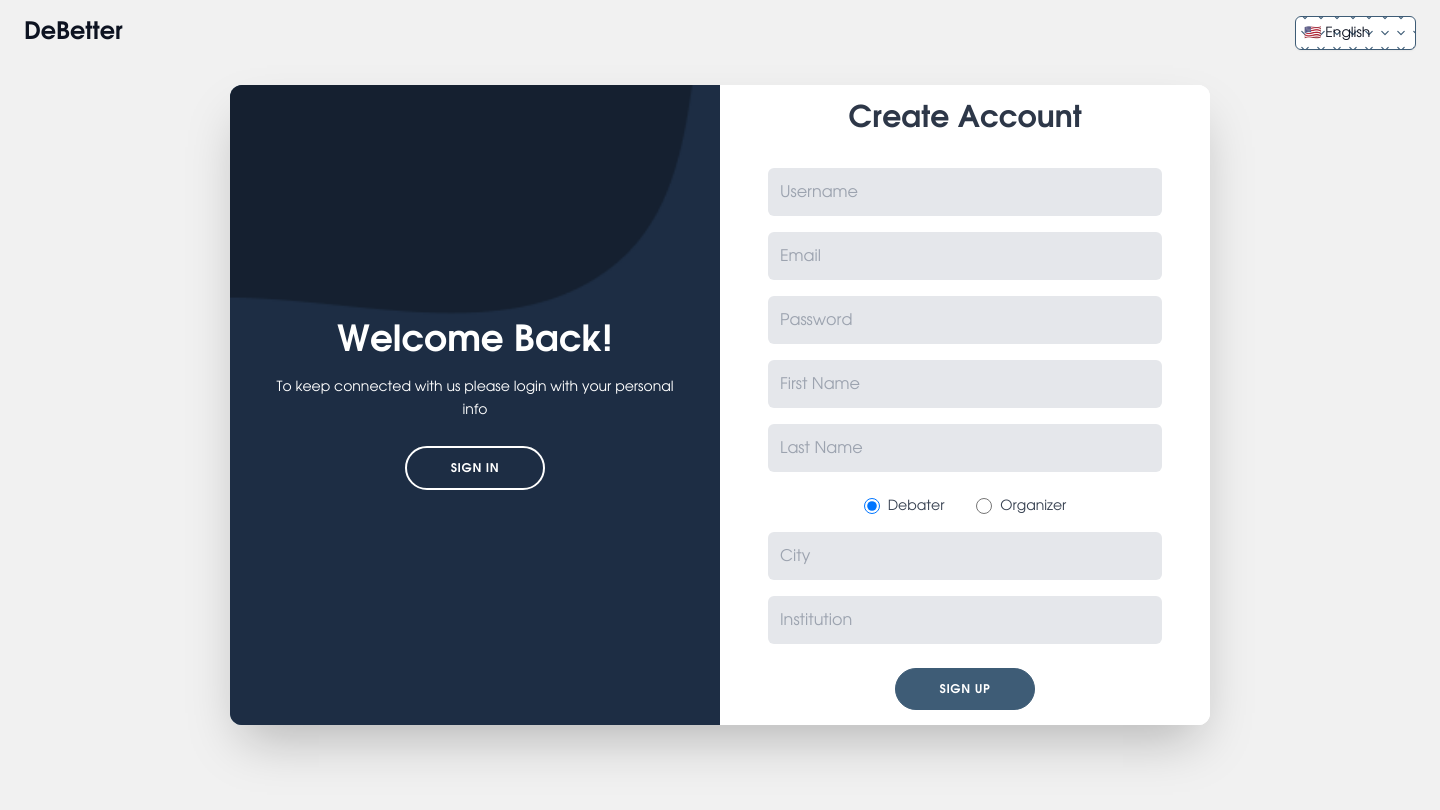
Test: AuthPage sign-up › uses the registration fallback when the error body is not JSON
The width and height of the screenshot is (1440, 810).
Type "nurassyl" into the field with id "auth-signup-name" at (965, 192), box [768,168,1162,216]
Type "nurassyl@example.com" into the field with placeholder "Email" at (965, 256), box [768,232,1162,280]
Type "Test12345!" into the password field with placeholder "Password" at (965, 320), box [768,296,1162,344]
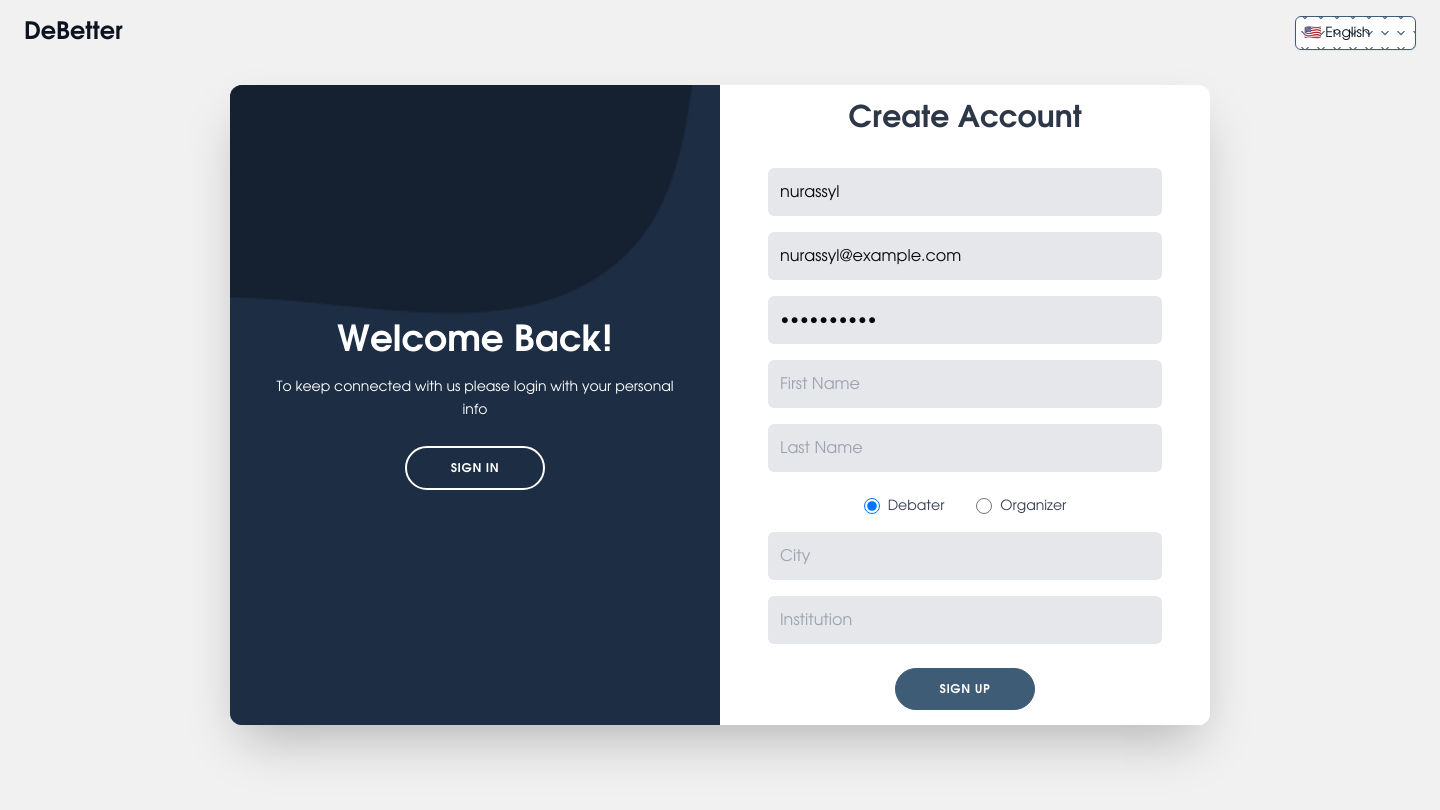
Type "Nurassyl" into the field with placeholder "First Name" at (965, 384), box [768,360,1162,408]
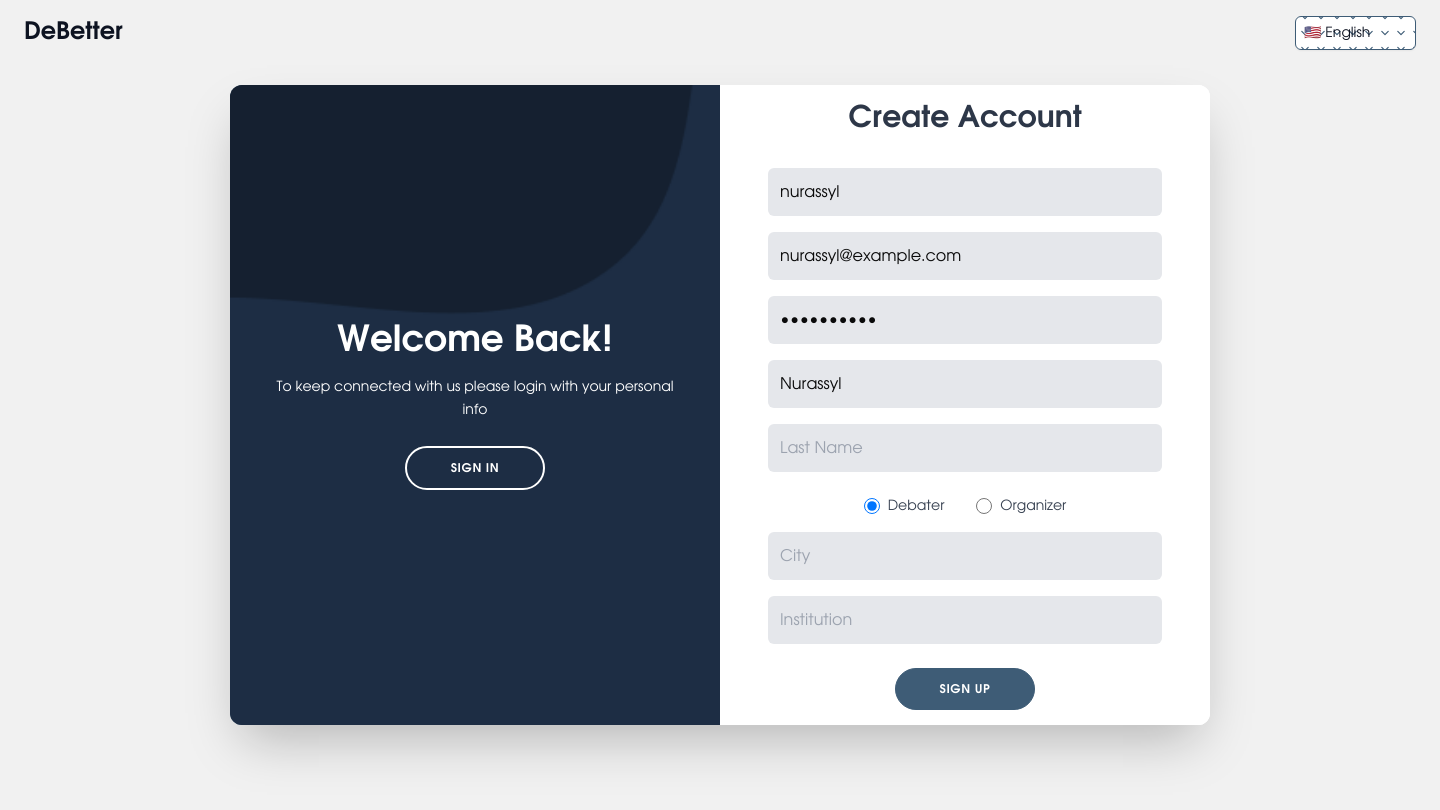
Type "Tursymbayev" into the field with placeholder "Last Name" at (965, 448), box [768,424,1162,472]
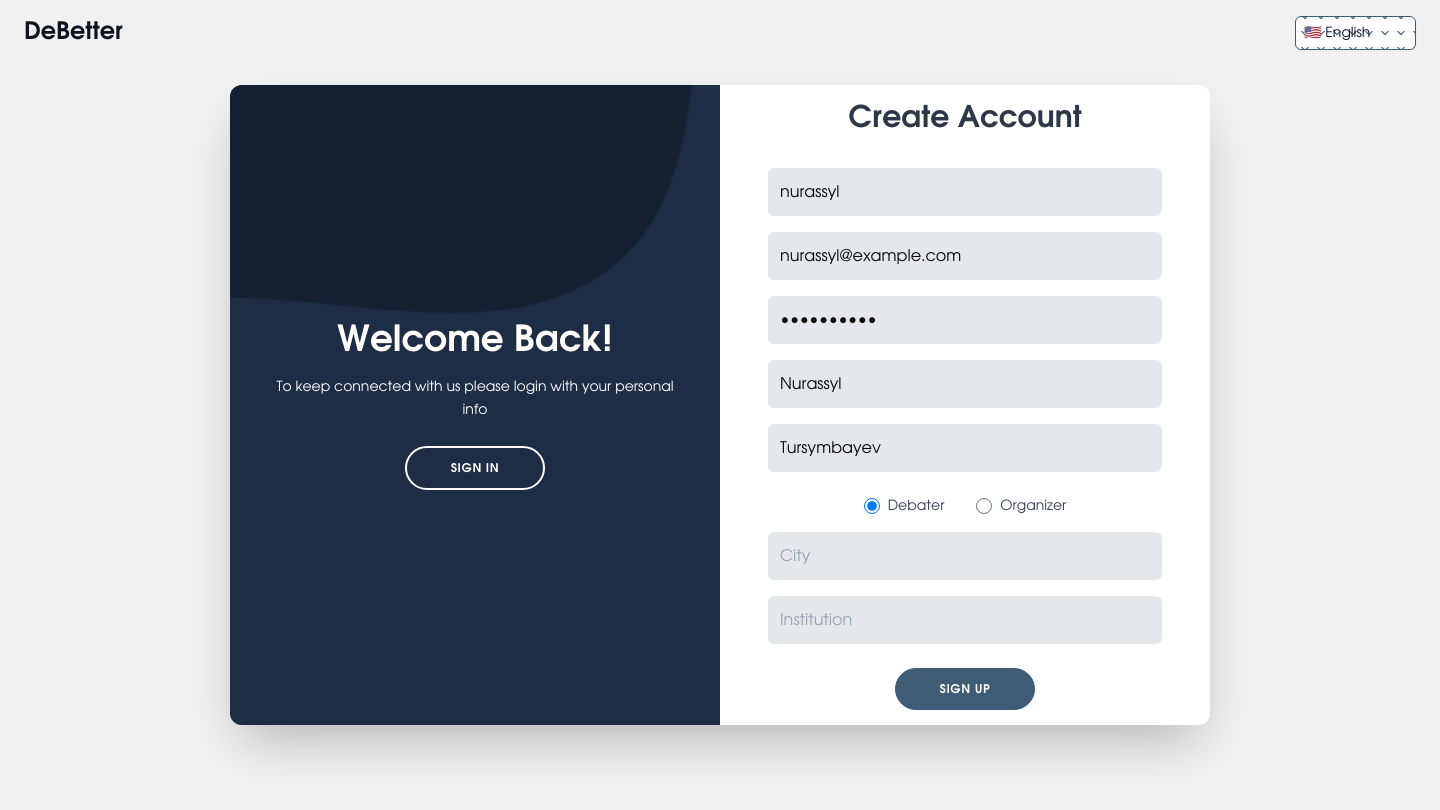
Type "Almaty" into the field with placeholder "City" at (965, 556), box [768,532,1162,580]
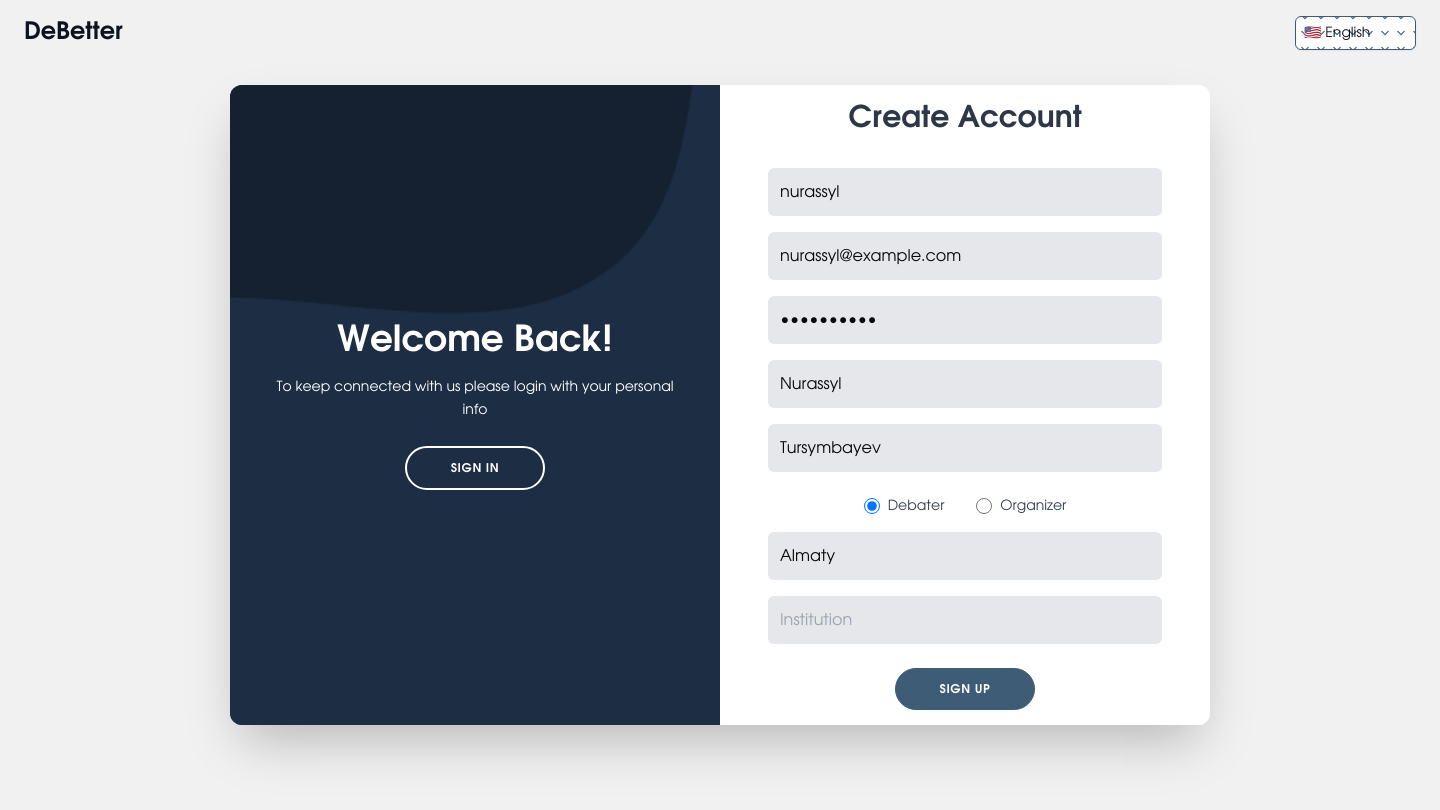
Type "NIS" into the field with placeholder "Institution" at (965, 620), box [768,596,1162,644]
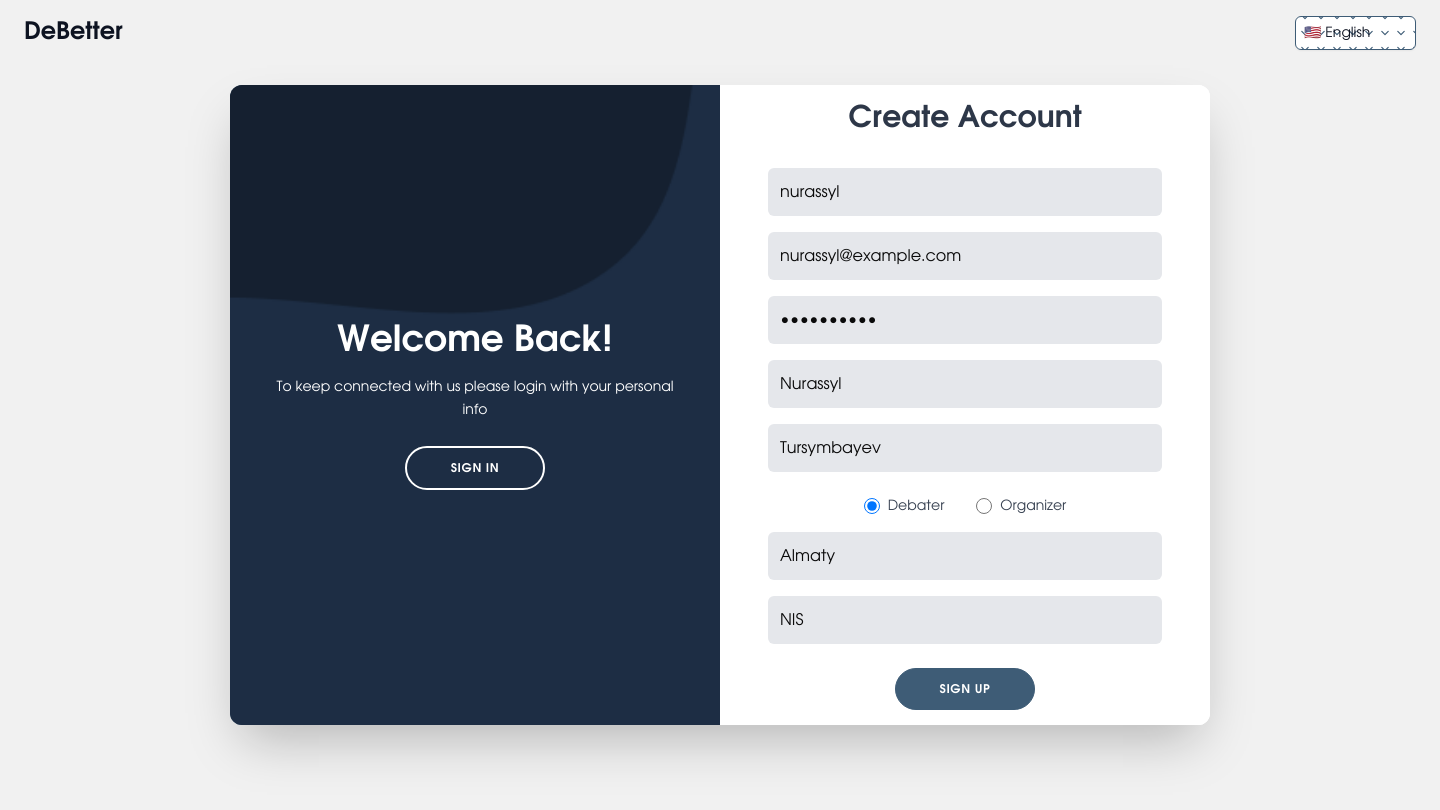
Submit the form with id "auth-signup-name", box [720,85,1210,725]
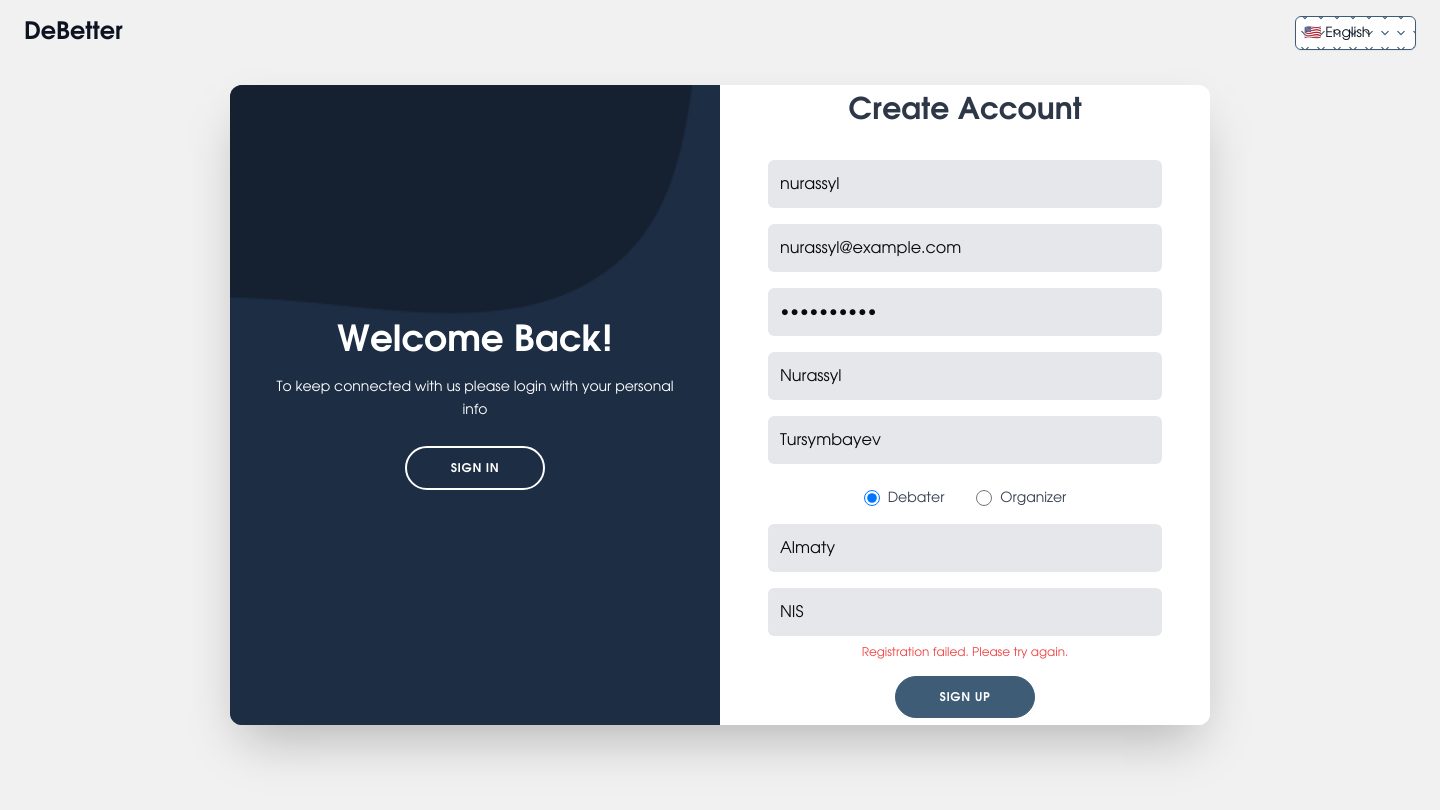
Now the text "Registration failed. Please try again." is shown, box [862,644,1068,660]
